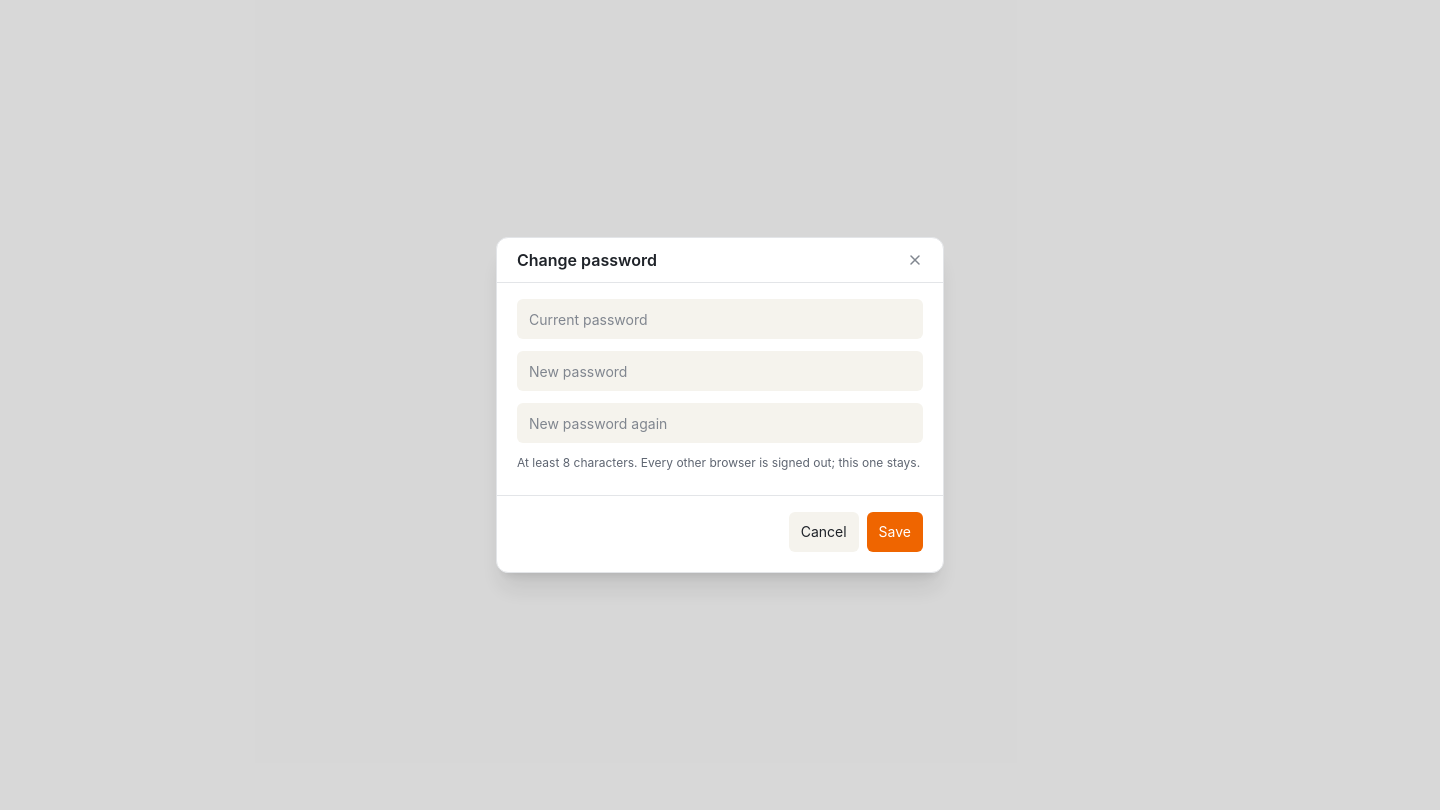
it: changing the password › says what is wrong before asking the server
Click the button "Save" at (895, 532), box [867, 512, 923, 552]
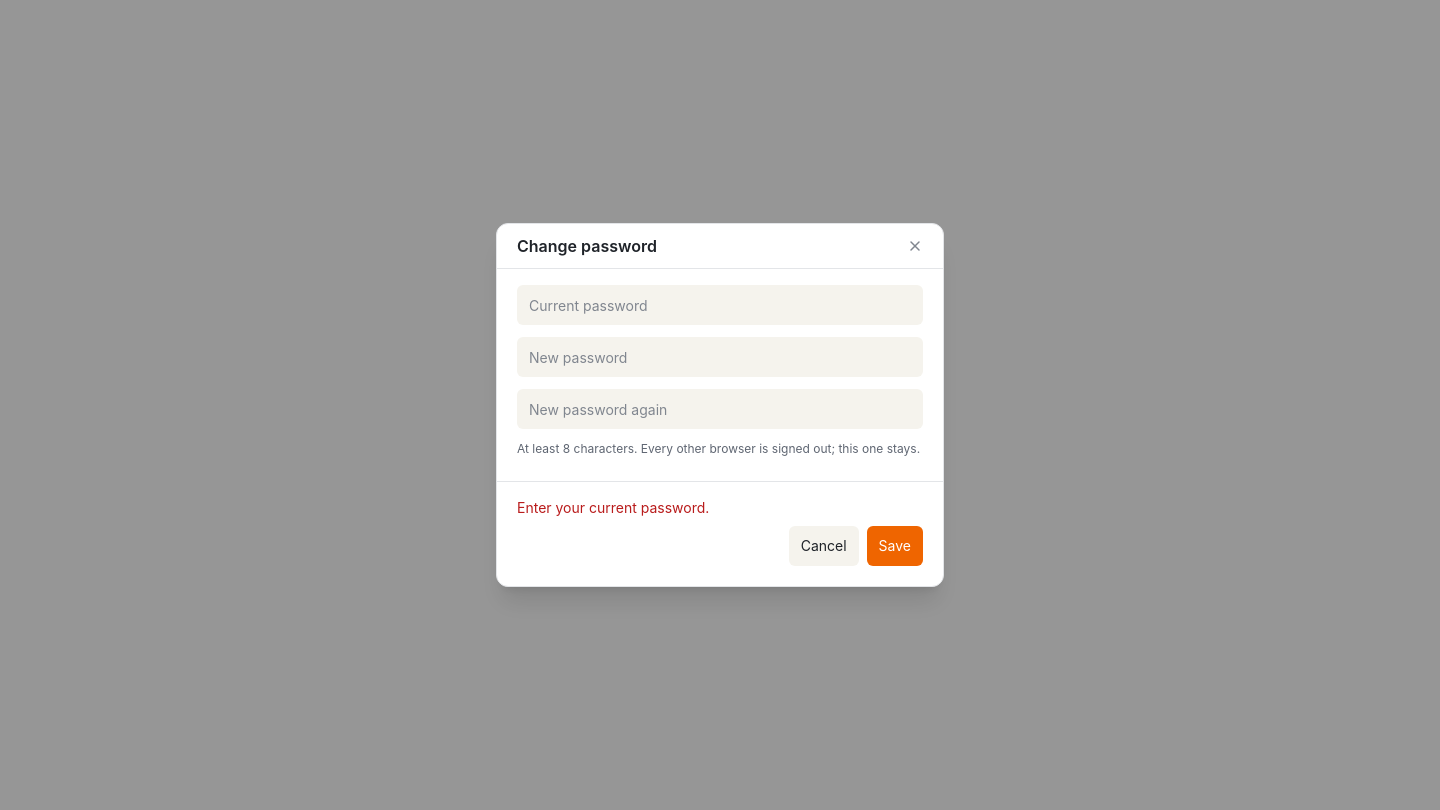
expect the text "Enter your current password." is shown: met, box [517, 499, 709, 516]
Type "a good password" into the password field labelled "Current password" at (720, 305), box [517, 285, 923, 325]
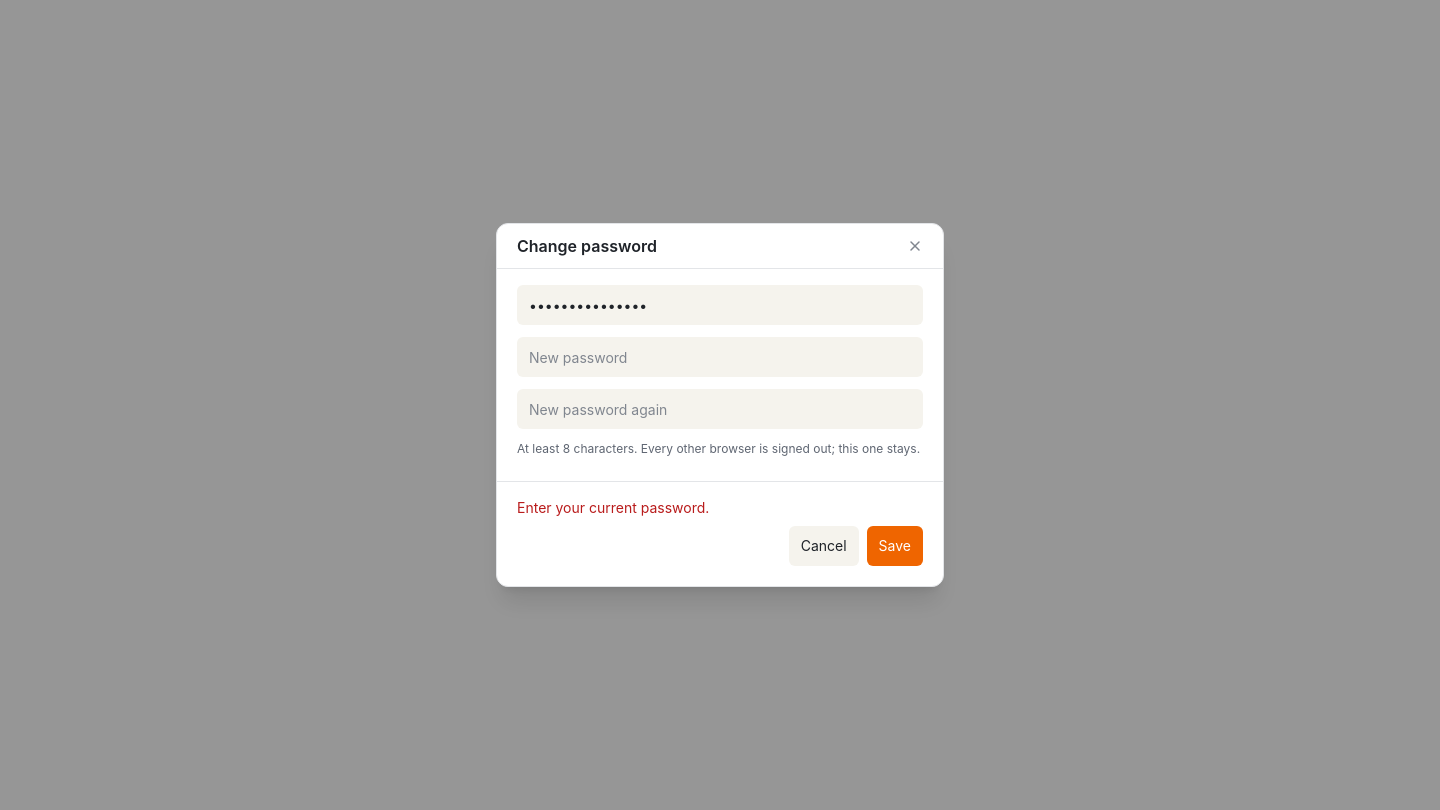
Type "a new password" into the password field labelled "New password" at (720, 357), box [517, 337, 923, 377]
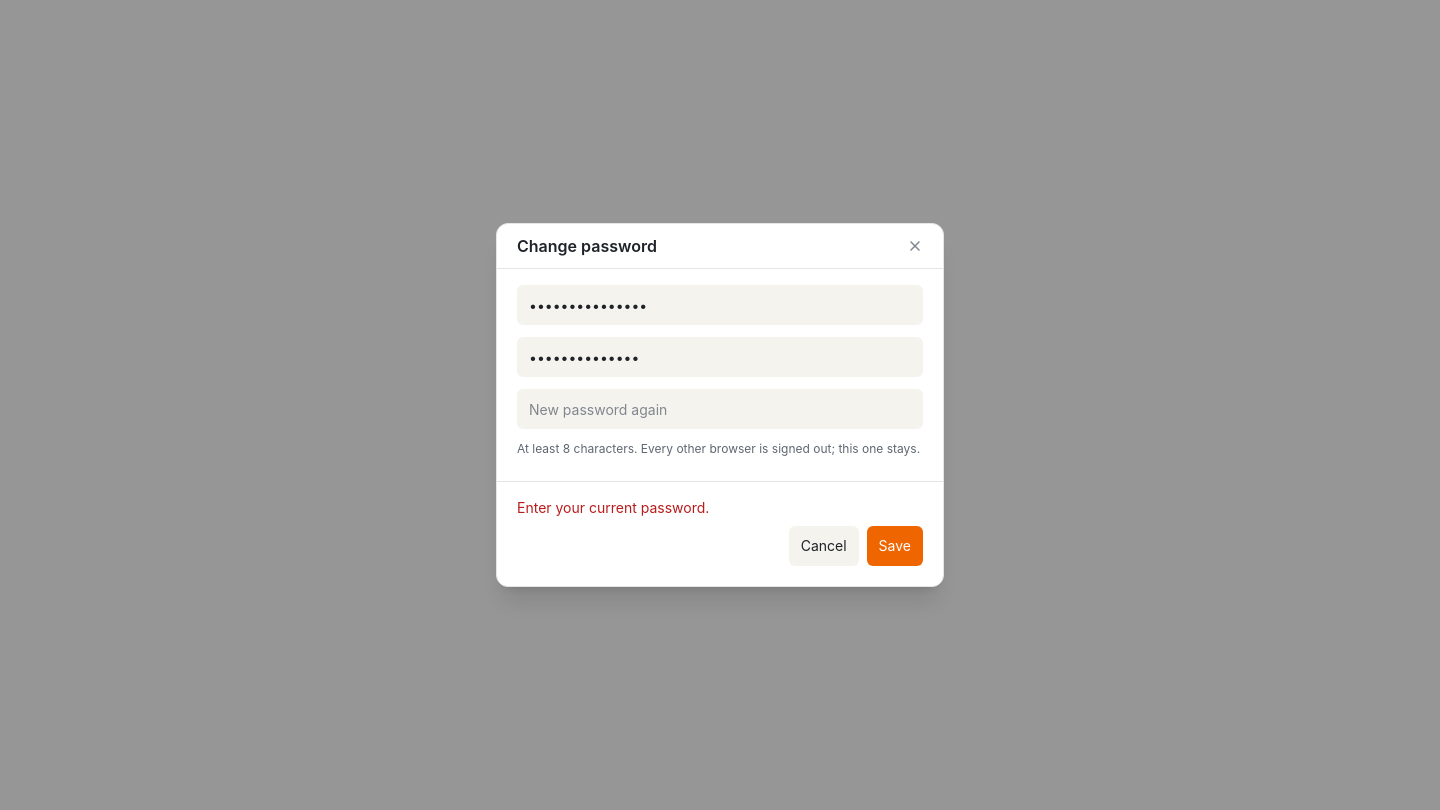
Type "another one" into the password field labelled "New password again" at (720, 409), box [517, 389, 923, 429]
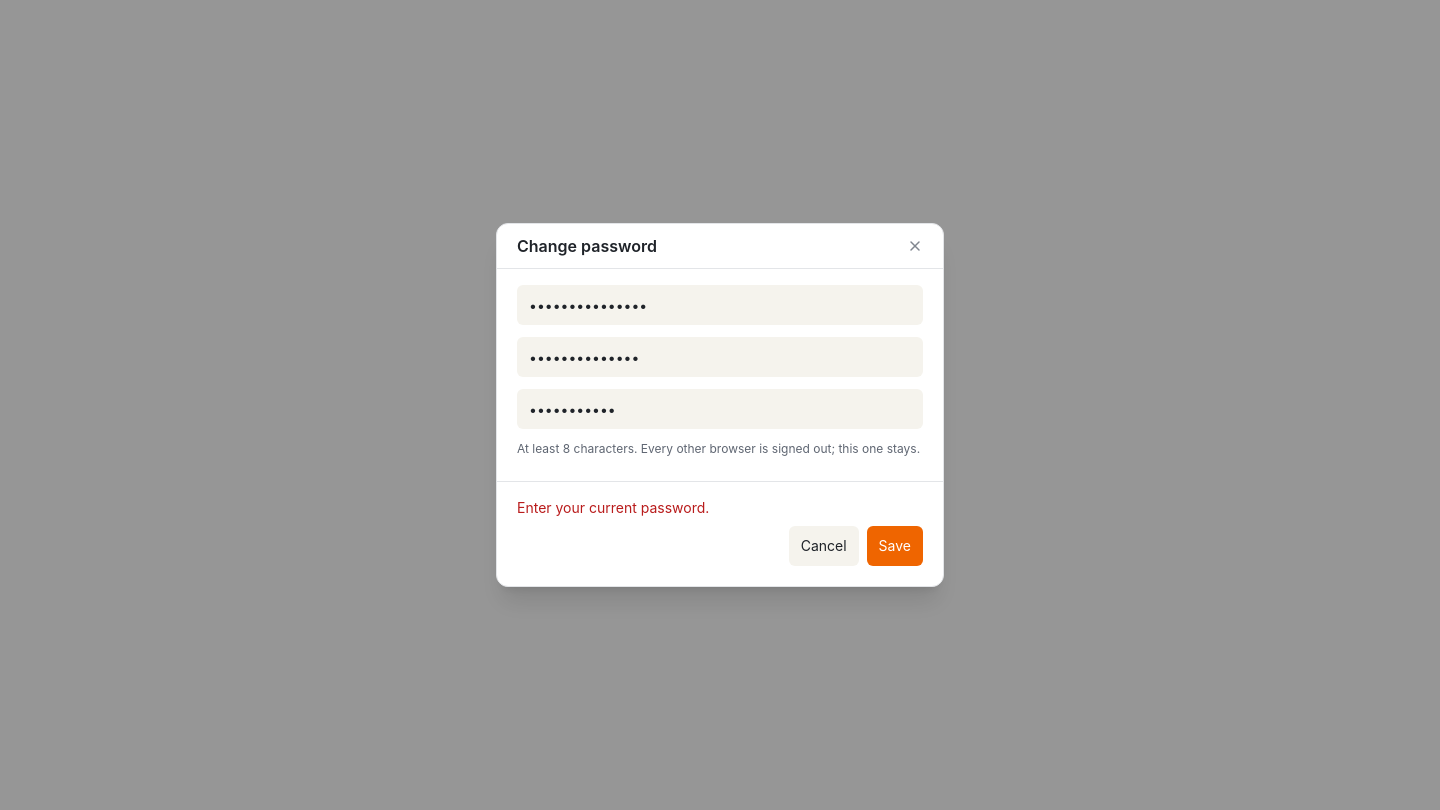
Click the button "Save" at (895, 546), box [867, 526, 923, 566]
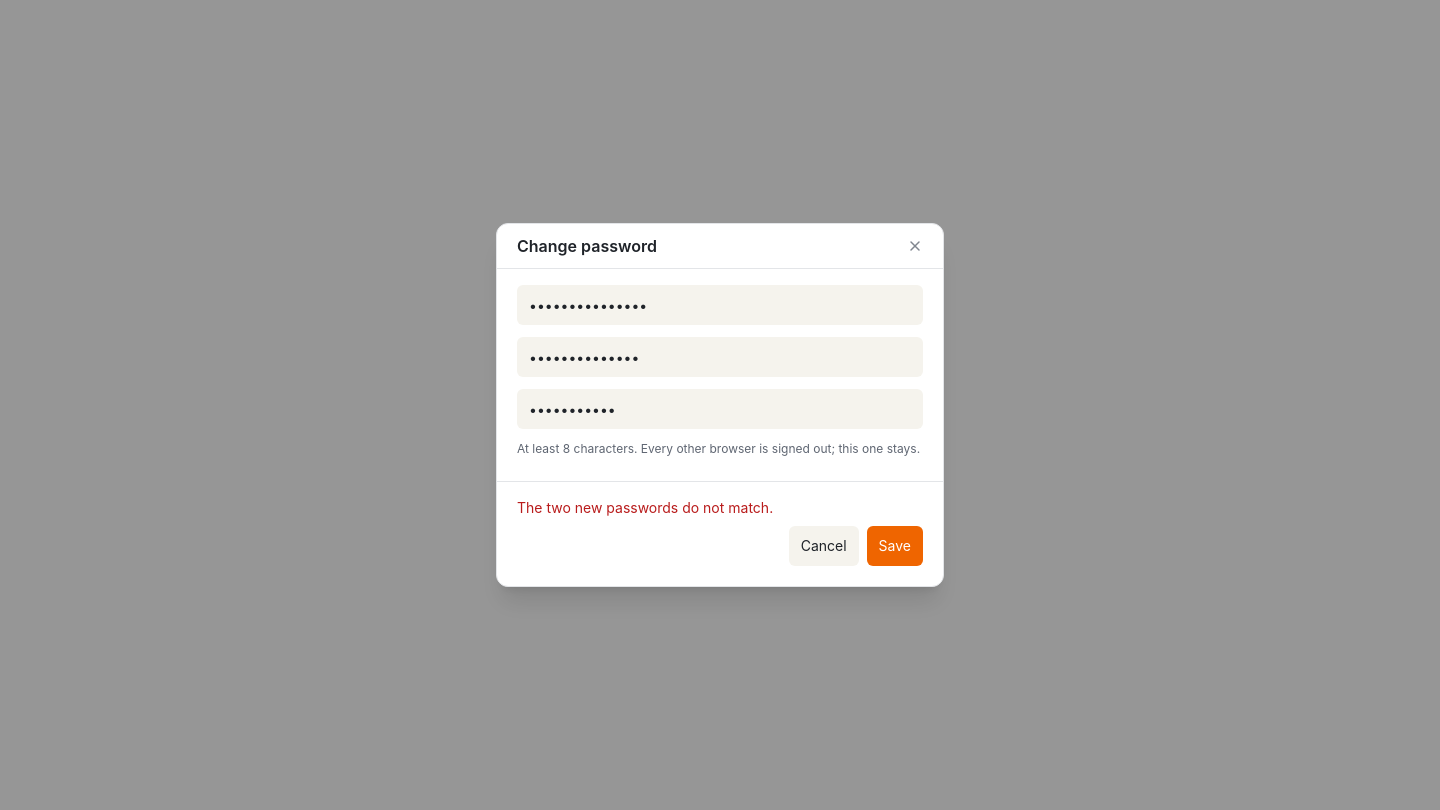
expect the text "The two new passwords do not match." is shown: met, box [517, 499, 773, 516]
